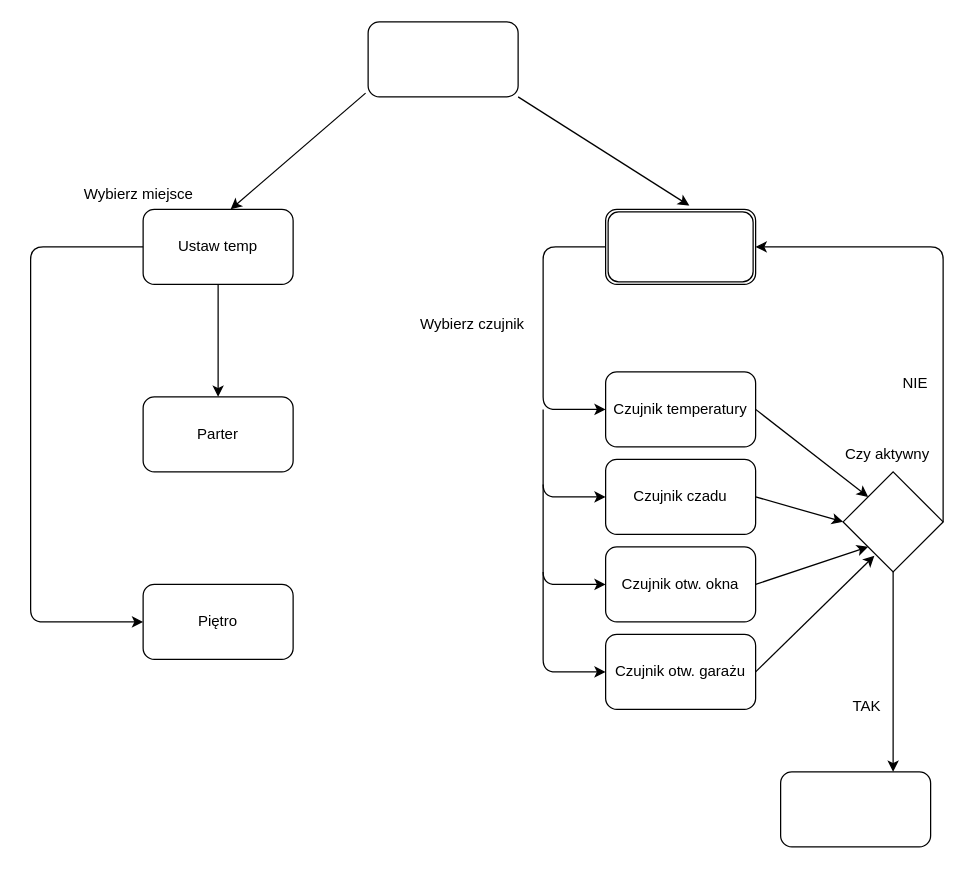
Image size: 975x869. Some labels were removed from this diagram. Here are the shapes that lost their labels. From the top down, the box of each, then its label:
(367, 21, 518, 97): Wybór opcji
(604, 208, 756, 284): Sprawdź czujnik
(779, 771, 931, 847): Włącz alarm
